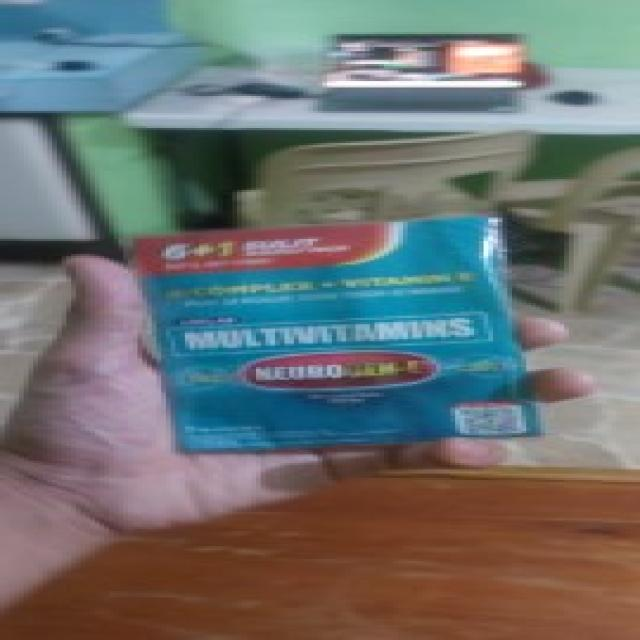Cacat: (132, 219, 550, 455)
